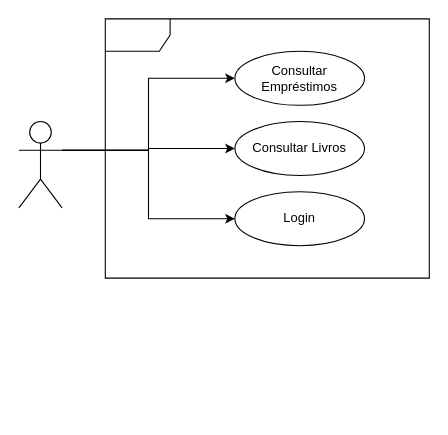
The diagram is 448 pixels wide and 435 high, and some of its shapes have lost their labels. The shapes that lost their labels are listed below. From the top down, each one's centre as x and y in pixels, then its label:
At (x=40, y=164): "Aluno".
At (x=266, y=148): "Sistema".
